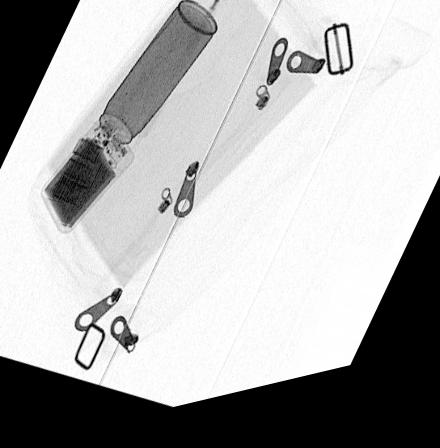Powerbank: (40, 120, 136, 236)
